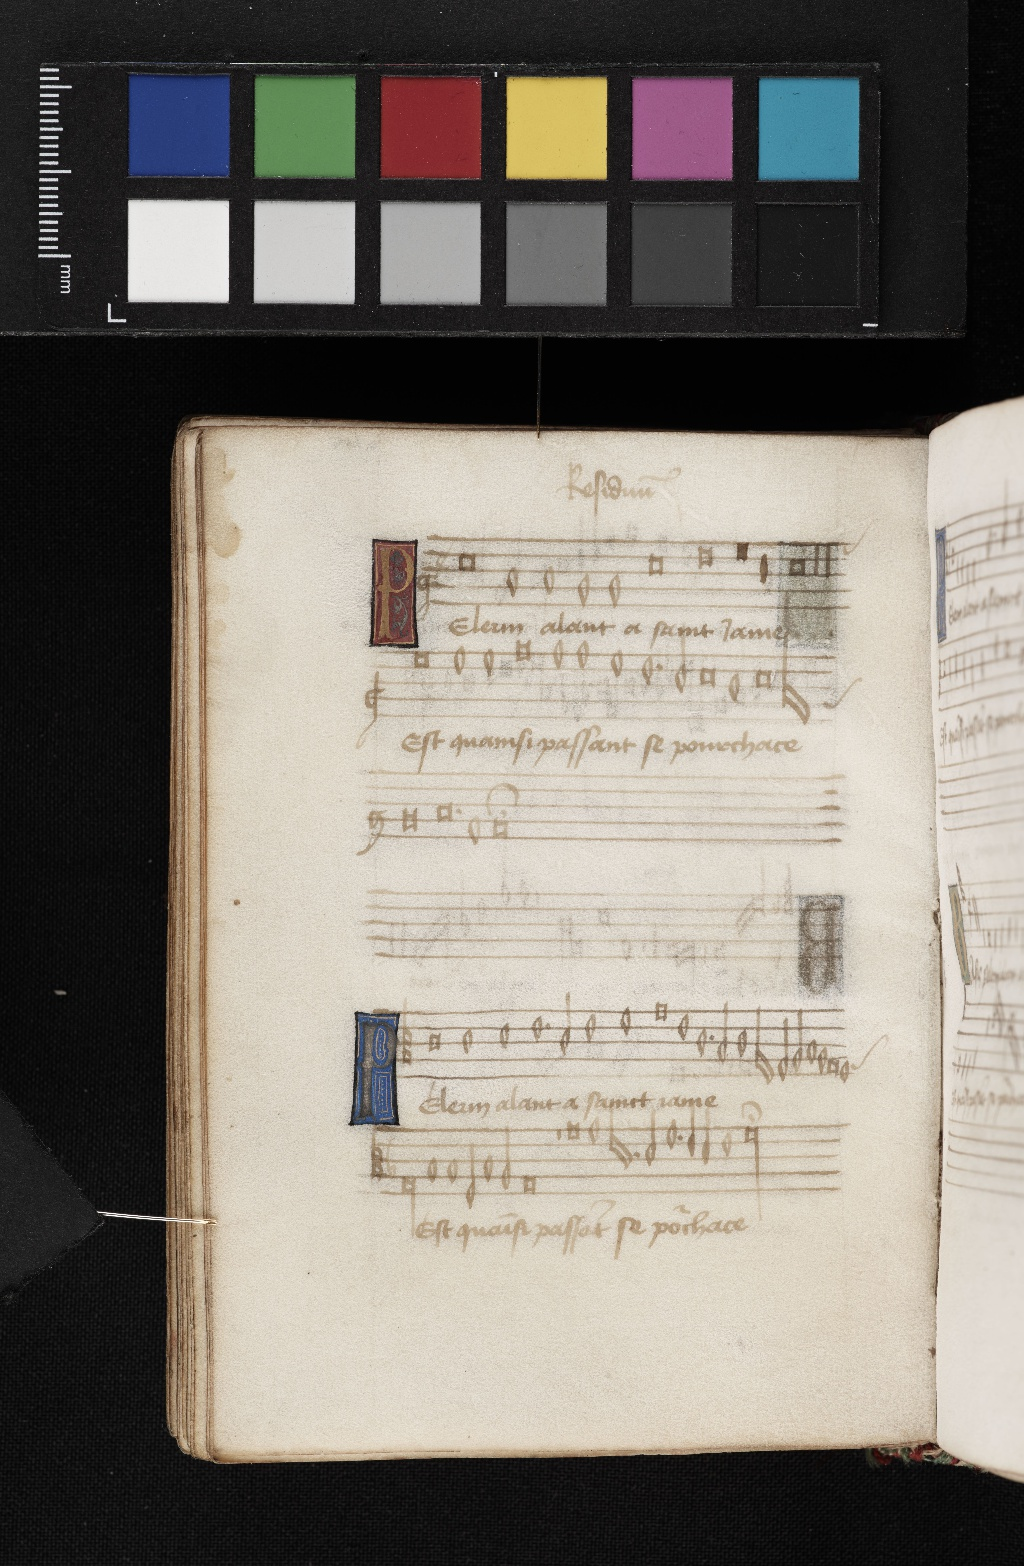breve_3: (507, 635, 538, 669)
breve_4: (407, 644, 435, 678)
breve_6: (693, 661, 725, 693), (747, 661, 773, 701)
custos_9: (810, 678, 853, 715)
g clef_9: (347, 668, 389, 755)
minim_6: (669, 633, 691, 699)
o1semibreve_8: (775, 636, 794, 721)
o2semibreve_10: (794, 636, 813, 725)
point: (650, 656, 667, 680)
semibreve_3: (571, 635, 594, 678), (546, 635, 569, 677)
semibreve_4: (603, 641, 629, 685), (477, 640, 501, 683), (448, 637, 471, 681)
semibreve_5: (635, 648, 657, 692)
semibreve_7: (722, 665, 746, 708)
